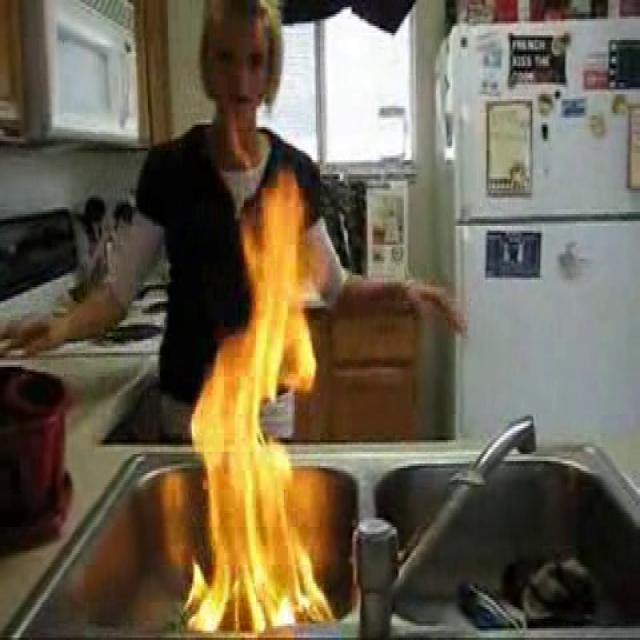Fire: (182, 172, 334, 640)
